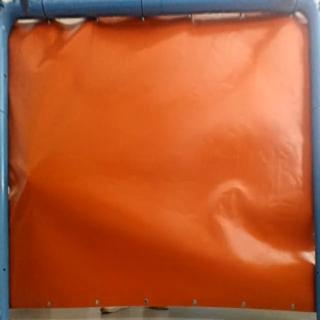Hit-hRxx: (22, 167, 35, 191)
